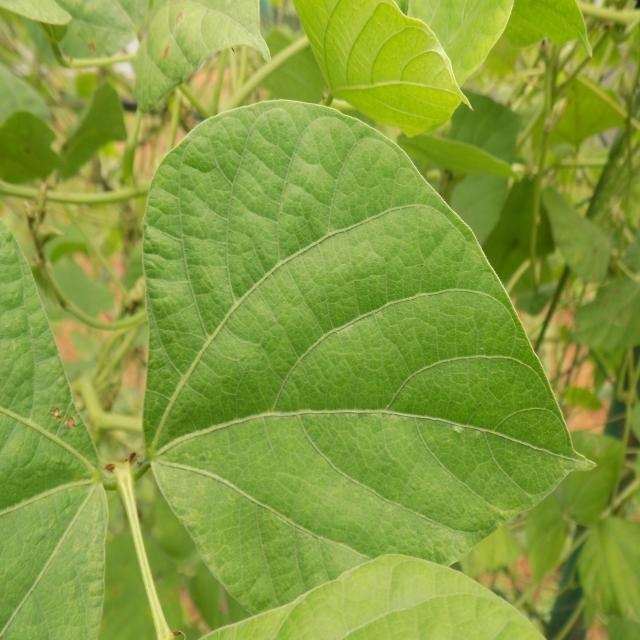Dolicos bean_healthy: (137, 100, 598, 625)
